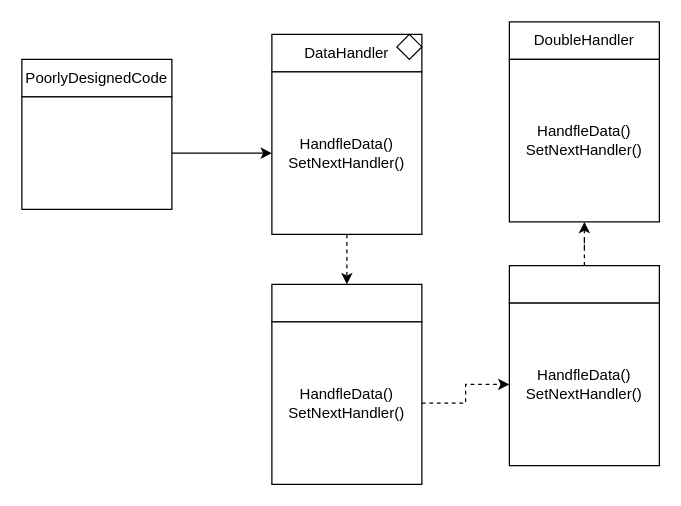
This 681x506 diagram has some shape labels left out. Each missing label, with the centre of its shape:
IntHandler: [346,302]
ProcessData(data): [96,152]
StringHandler: [583,283]
